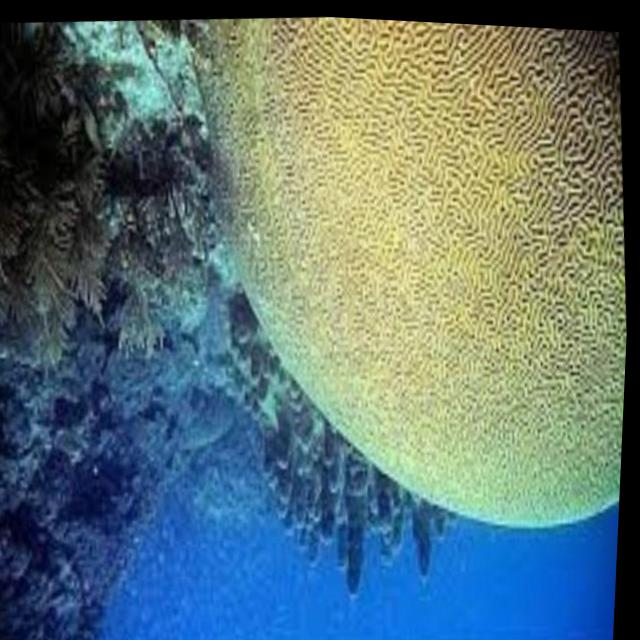Healthy Coral: (177, 8, 640, 559)
